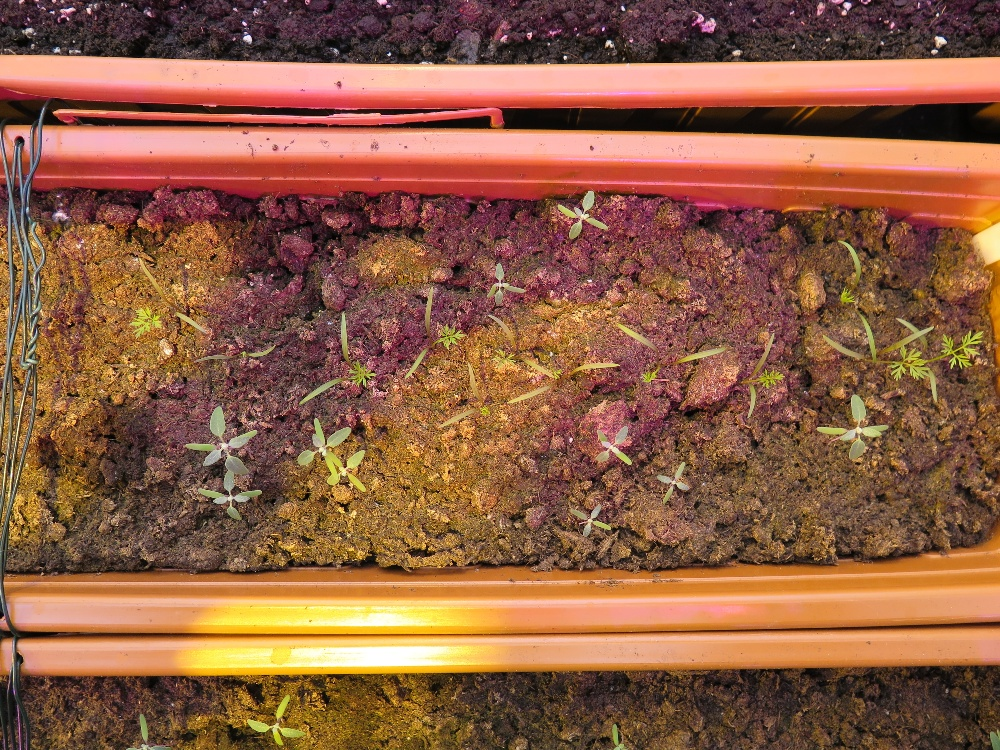weed: (816, 392, 891, 462), (244, 690, 307, 747), (556, 188, 612, 239), (485, 262, 528, 306), (655, 459, 690, 505), (594, 425, 632, 466), (569, 502, 612, 538)
